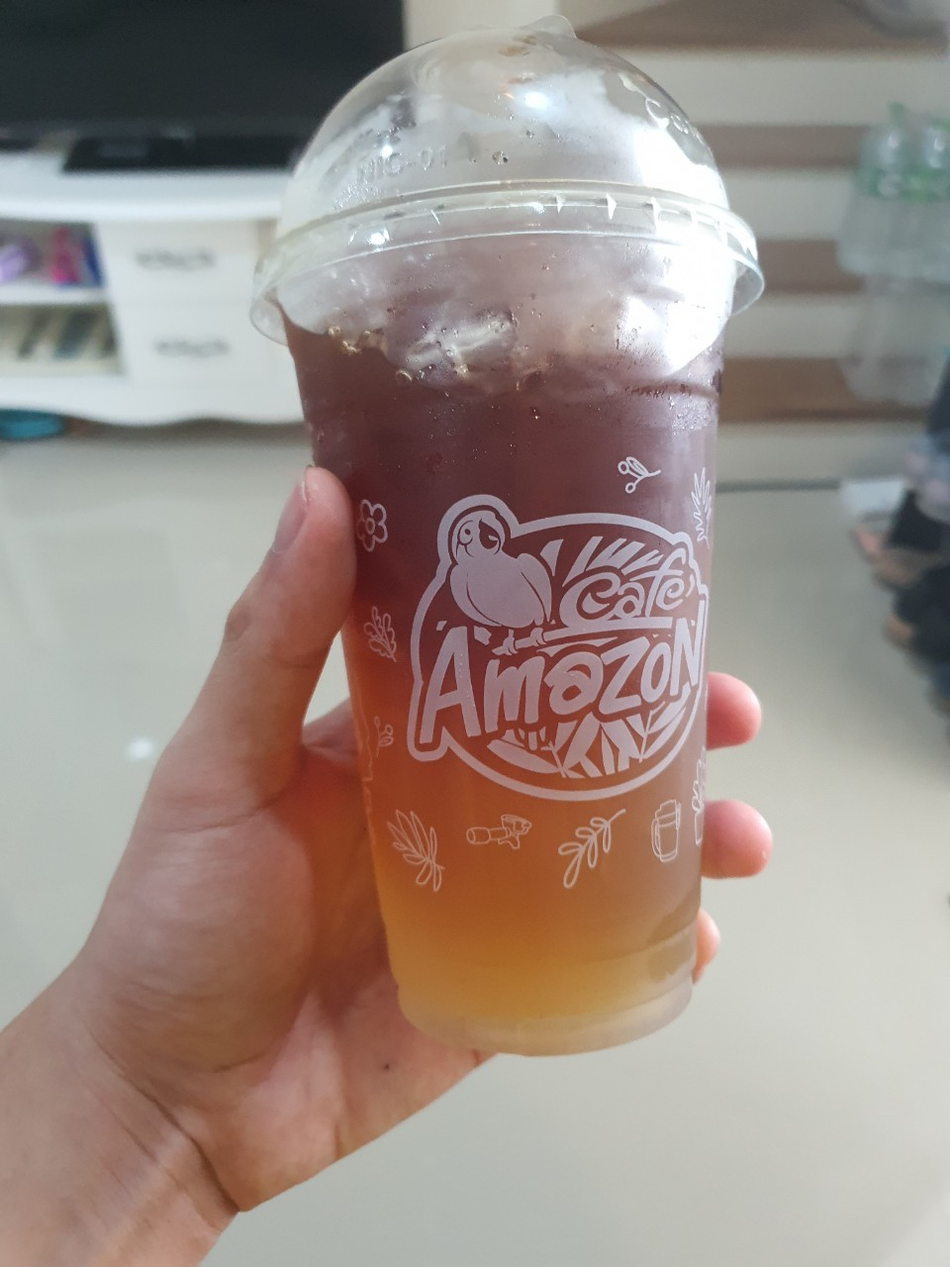plastic: (228, 7, 787, 1062)
